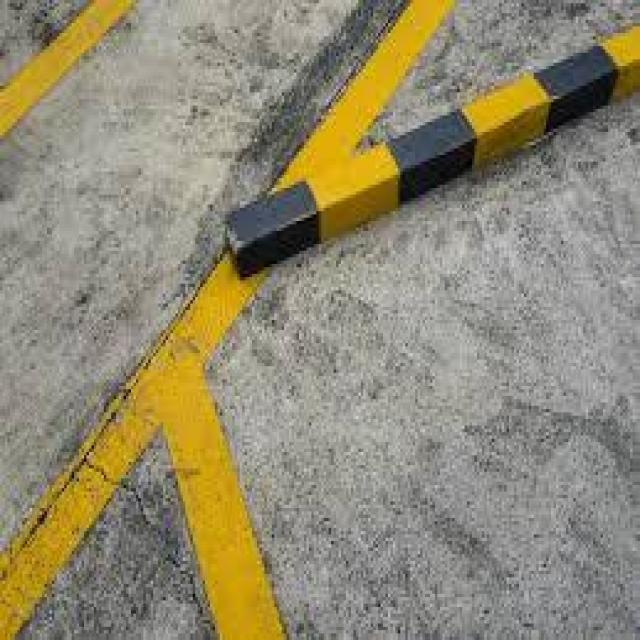bump: (186, 22, 640, 277)
